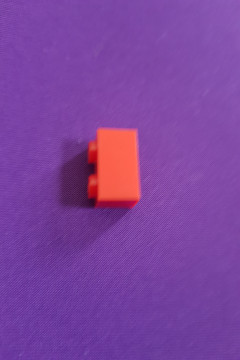1x2 red: (86, 126, 145, 209)
